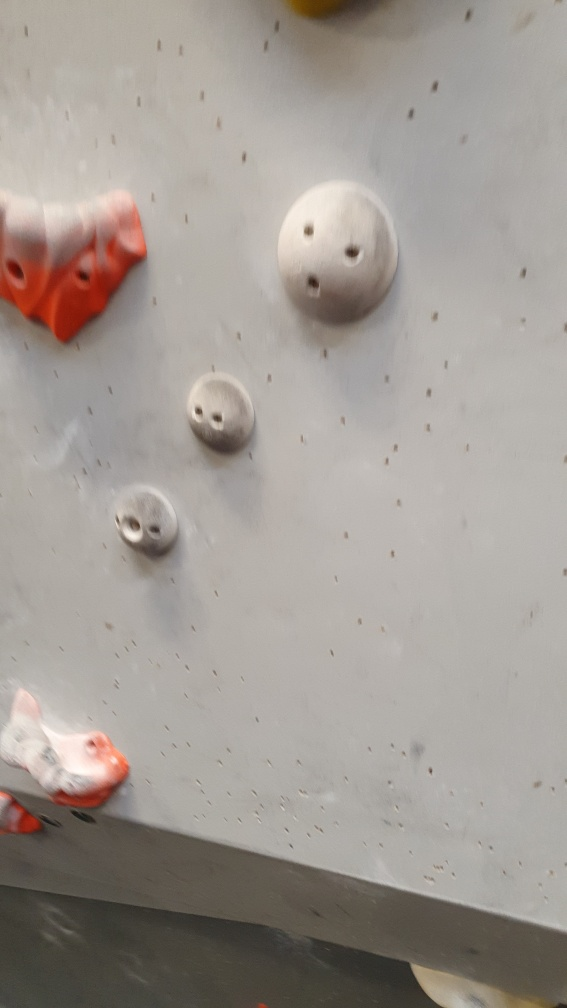Jug: (1, 185, 151, 350), (1, 691, 130, 814)
Sloper: (273, 178, 401, 331), (181, 366, 259, 455), (112, 482, 182, 561)
